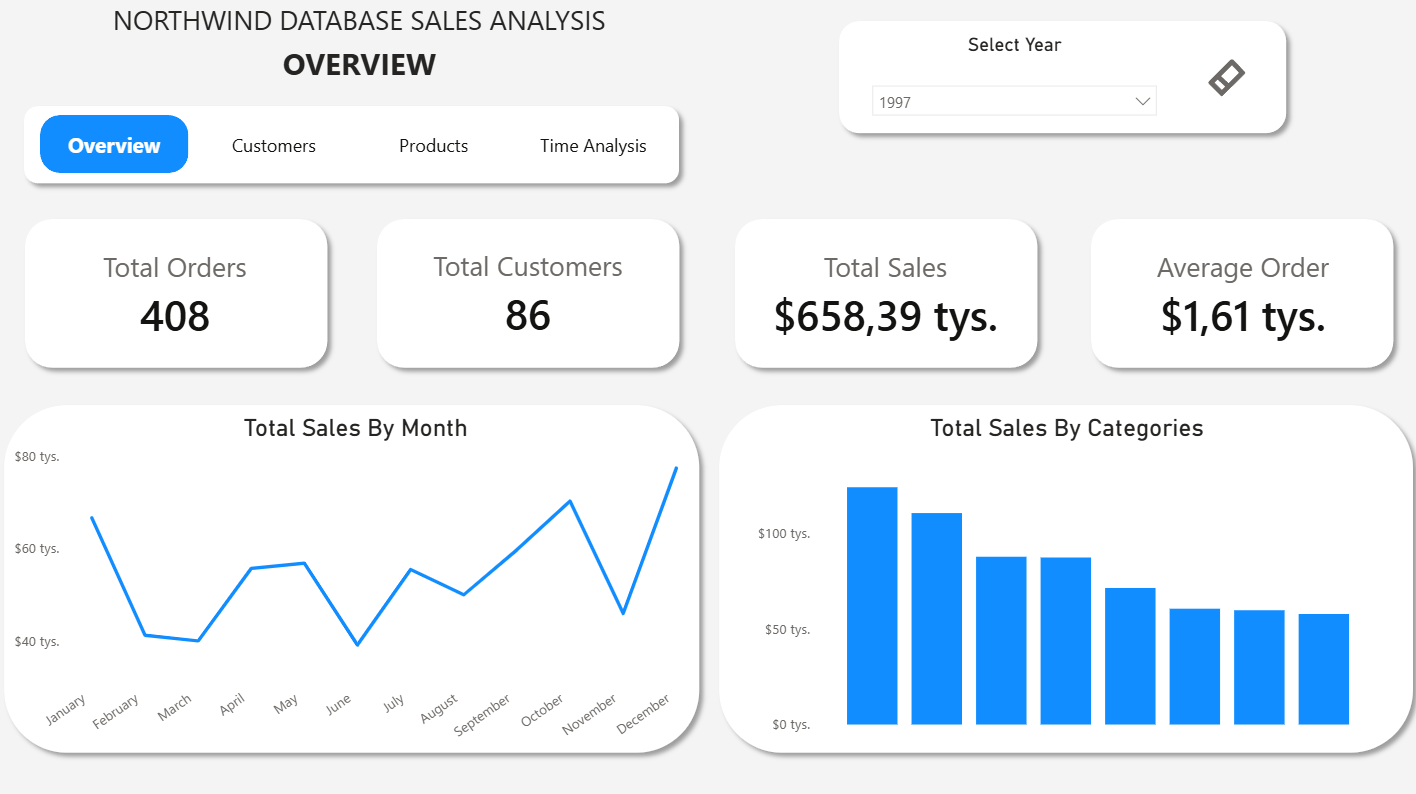

The page's visual inventory and layout, read from the dashboard file:
{"tool":"powerbi","page":{"name":"Overview","canvas":[1280,720],"ordinal":0},"visuals":[{"type":"shape","box":[18.2,90.1,604.6,87.2],"z":0},{"type":"shape","box":[640.6,358.6,639.4,329.3],"z":1000},{"type":"shape","box":[0,358.6,640.6,329.3],"z":2000},{"type":"shape","box":[18.5,191.7,288.7,151.1],"z":3000},{"type":"shape","box":[654.5,191.7,288.7,151.1],"z":4000},{"type":"shape","box":[973.7,191.7,288.7,151.1],"z":5000},{"type":"shape","box":[334.2,191.7,288.7,151.1],"z":6000},{"type":"cardVisual","fields":{"Data":["Measure.Total Orders"]},"box":[0.4,207.5,324,120],"z":7000},{"type":"cardVisual","fields":{"Data":["Measure.Total Customers"]},"box":[316.1,207.4,324.8,119.5],"z":8000},{"type":"cardVisual","fields":{"Data":["Measure.Total Sales"]},"box":[640.4,207.5,316,120],"z":9000},{"type":"cardVisual","fields":{"Data":["Measure.Average Order"]},"box":[956.4,207.5,324,120],"z":10000},{"type":"textbox","box":[0,-0.2,654.1,53],"z":11000},{"type":"textbox","box":[0,37.4,654.4,57.5],"z":12000},{"type":"lineChart","title":"Total Sales By Month","fields":{"Category":["date_dim.month_name"],"Y":["Measure.Total Sales"]},"box":[12.4,375.5,622.5,312.4],"z":13000},{"type":"columnChart","title":"Total Sales By Categories","fields":{"Category":["products_dim.category_name"],"Y":["Measure.Total Sales"]},"box":[678.9,375.5,563.9,292.1],"z":14000},{"type":"shape","box":[747.7,14.7,418.4,118.4],"z":15000},{"type":"slicer","title":"Select Year","fields":{"Values":["date_dim.year"]},"box":[776.2,34,275.3,88.5],"z":16000},{"type":"actionButton","box":[1083.5,53.5,49.6,40.9],"z":17000},{"type":"pageNavigator","box":[41.2,107.3,565.3,52.7],"z":18000}]}

Visuals, with their boxes in screenshot pixels (x1, y1, x2, y2), scaled from the page's 1280x720 canvas onto the 1416x794 screenshot:
shape: (20,99,689,196)
shape: (709,395,1415,759)
shape: (0,395,709,759)
shape: (20,211,340,378)
shape: (724,211,1043,378)
shape: (1077,211,1397,378)
shape: (370,211,689,378)
cardVisual - Measure.Total Orders: (0,229,359,361)
cardVisual - Measure.Total Customers: (350,229,709,360)
cardVisual - Measure.Total Sales: (708,229,1058,361)
cardVisual - Measure.Average Order: (1058,229,1415,361)
textbox: (0,0,724,58)
textbox: (0,41,724,105)
"Total Sales By Month" lineChart: (14,414,702,759)
"Total Sales By Categories" columnChart: (751,414,1375,736)
shape: (827,16,1290,147)
"Select Year" slicer: (859,37,1163,135)
actionButton: (1199,59,1253,104)
pageNavigator: (46,118,671,176)
